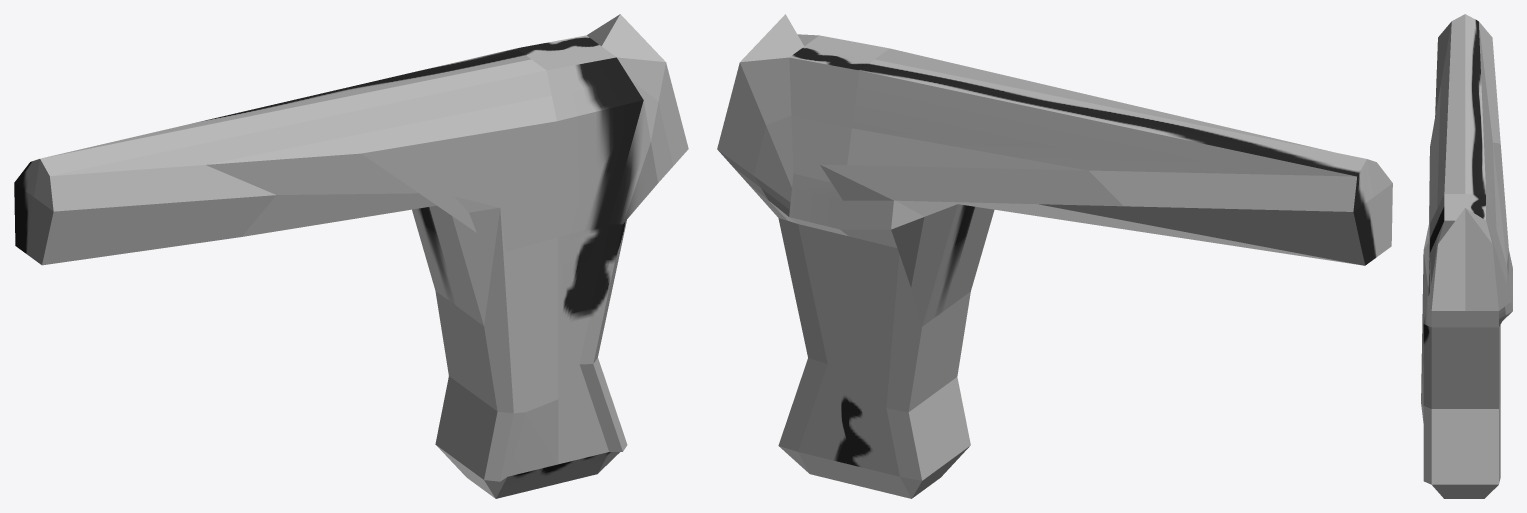
The model's file is item-1911gun.glb.
3 views of the same model, side by side, from view 1: azimuth 30°, elevation 25°; view 2: azimuth 150°, elevation 25°; view 3: azimuth 270°, elevation 25° (orthographic). The views are drawn at different scales.
Size of the model in its own units: 0.00673 by 0.00445 by 0.00122.
Materials: 1 (1 with a texture image).
